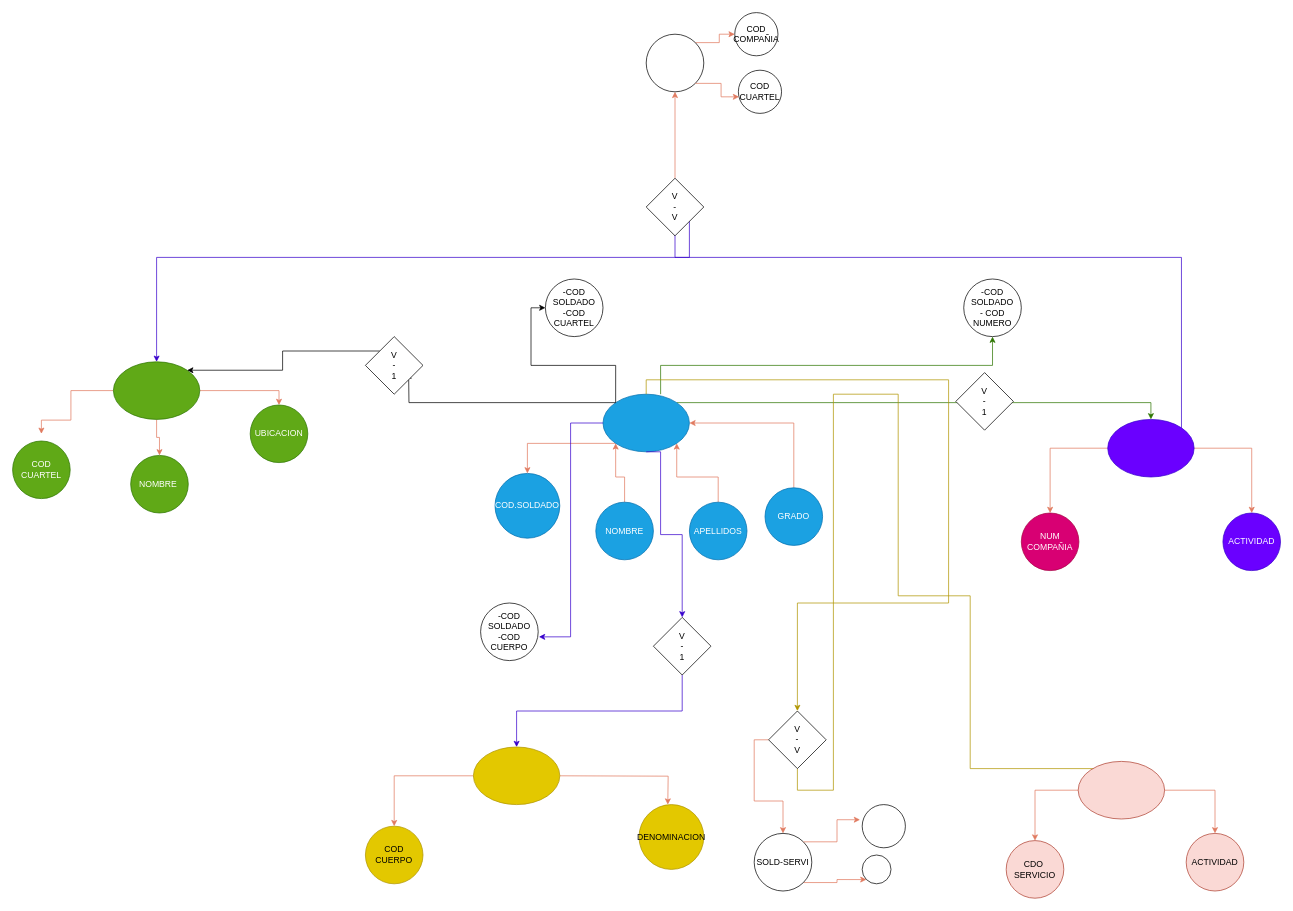
Some shapes in this 1293 by 911 pixel diagram are drawn without their labels. The centre of each missing label's shape, as x and y in pixels:
COD SERVI: (x=876, y=869)
COD SOLDADO: (x=883, y=826)
COMPAÑIA: (x=1150, y=448)
CUART-COMPA.: (x=674, y=62)
CUARTELES: (x=156, y=390)
CUERPOS DE EJERCITO: (x=516, y=775)
SERVICIOS: (x=1121, y=790)
SOLDADOS: (x=645, y=422)
